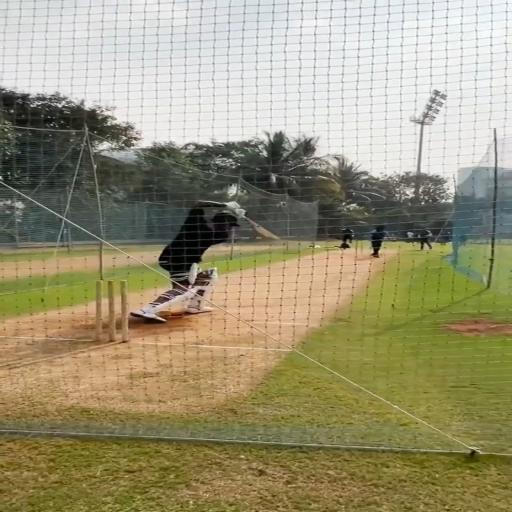Cricket bat: (243, 216, 280, 239)
